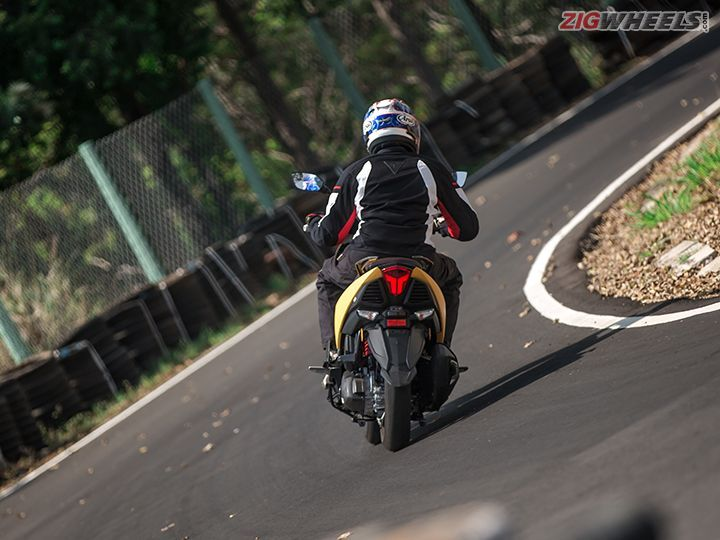with_helmet: (359, 96, 425, 152)
